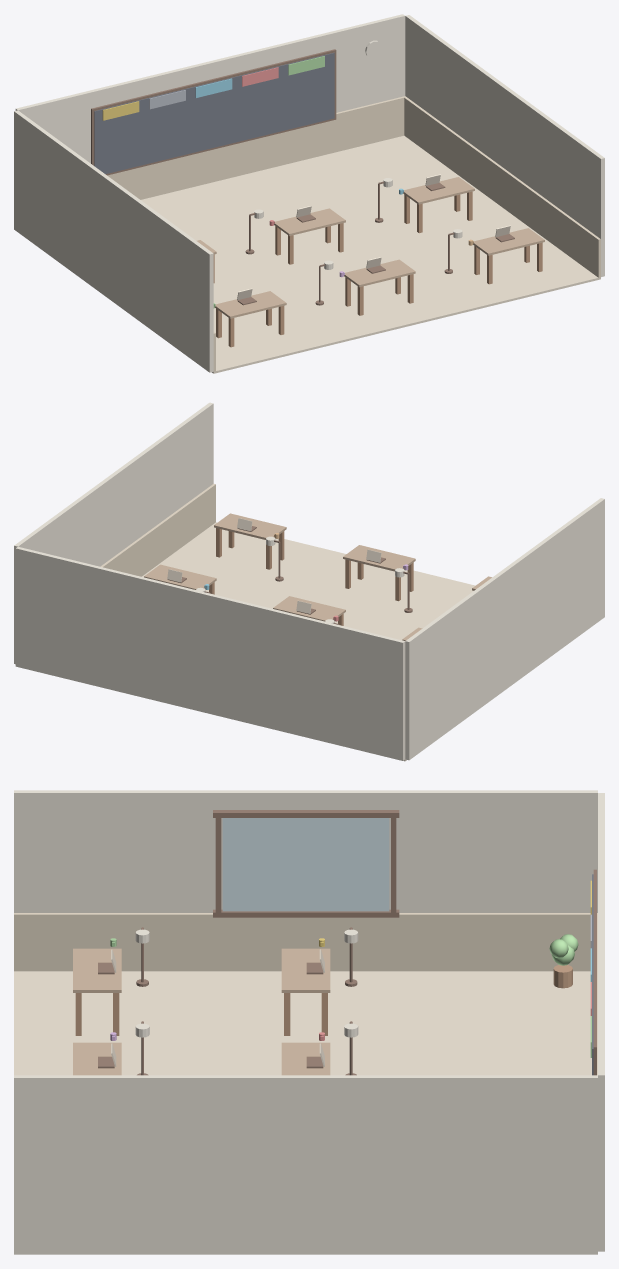
File: environment.glb
3 renders of one model, top to bottom at view 1: azimuth 30°, elevation 25°; view 2: azimuth 150°, elevation 25°; view 3: azimuth 270°, elevation 25°, orthographic. The views are drawn at different scales.
Parts seen in each view (by area): view 1: room_floor, room_wall_left, room_wall_right, board_bg, room_wall_back, room_wainscot_back, room_wainscot_right, desk_top (×5), desk_legs (×5), board_frame; view 2: room_wall_back, room_wall_left, room_floor, room_wall_right, room_wainscot_right, desk_top (×4), desk_legs (×2); view 3: room_wall_right, room_wall_left, room_floor, room_wainscot_left, window_glass, desk_top (×4), window_frame, room_wall_back, board_frame, plant.
Boxes of the visible parts, bbox=[...] form: room_floor: bbox=[141, 135, 600, 373]; room_wall_left: bbox=[14, 110, 213, 372]; room_wall_right: bbox=[405, 15, 604, 276]; board_bg: bbox=[94, 52, 334, 174]; room_wall_back: bbox=[15, 14, 405, 163]; room_wainscot_back: bbox=[107, 96, 405, 199]; room_wainscot_right: bbox=[404, 96, 600, 277]; desk_top (×5): bbox=[214, 177, 544, 318]; desk_legs (×5): bbox=[216, 191, 542, 347]; board_frame: bbox=[91, 49, 336, 175]; room_wall_back: bbox=[15, 546, 405, 760]; room_wall_left: bbox=[405, 498, 604, 760]; room_floor: bbox=[142, 522, 475, 761]; room_wall_right: bbox=[14, 402, 213, 664]; room_wainscot_right: bbox=[100, 483, 215, 576]; desk_top (×4): bbox=[144, 513, 415, 621]; desk_legs (×2): bbox=[216, 528, 413, 601]; room_wall_right: bbox=[14, 1075, 597, 1254]; room_wall_left: bbox=[14, 790, 597, 912]; room_floor: bbox=[14, 971, 591, 1075]; room_wainscot_left: bbox=[14, 913, 597, 971]; window_glass: bbox=[222, 818, 389, 911]; desk_top (×4): bbox=[73, 948, 330, 1075]; window_frame: bbox=[213, 810, 399, 917]; room_wall_back: bbox=[598, 793, 604, 1251]; board_frame: bbox=[593, 869, 596, 1075]; plant: bbox=[549, 934, 578, 965].
Size of the model in its own units: 9.8 by 2.85 by 8.5.
